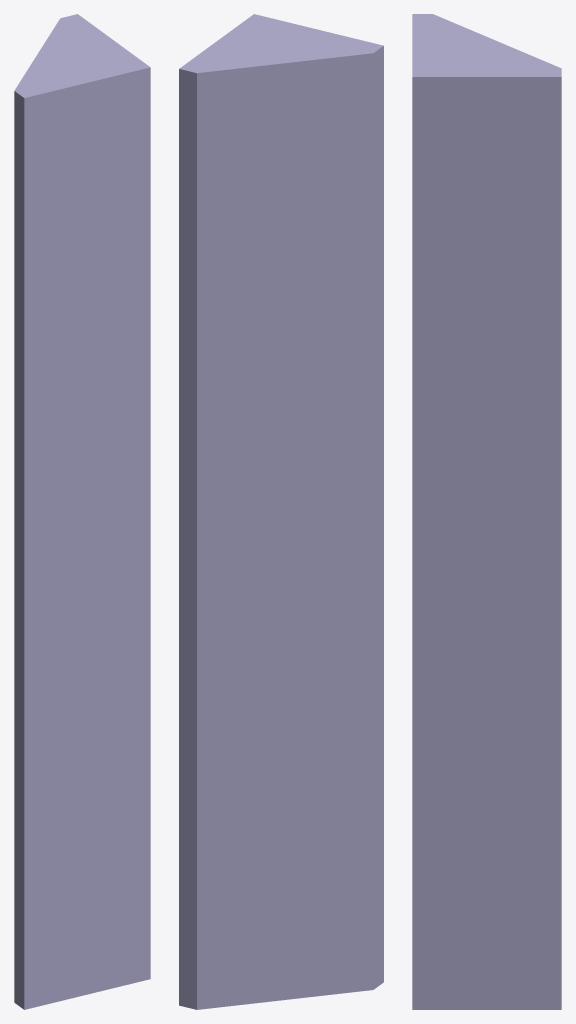
The model's file is quoin_simple.fbx.
3 views of the same model, side by side, from view 1: azimuth 30°, elevation 25°; view 2: azimuth 150°, elevation 25°; view 3: azimuth 270°, elevation 25° (orthographic). The views are drawn at different scales.
Visible parts, largest first — view 1: quoin_simple; view 2: quoin_simple; view 3: quoin_simple.
Boxes of the visible parts, x1,y1,x2,y2 form: quoin_simple: [14, 14, 150, 1009]; quoin_simple: [179, 14, 383, 1009]; quoin_simple: [412, 14, 561, 1009].
Size of the model in its own units: 1.45 by 10 by 1.45.
